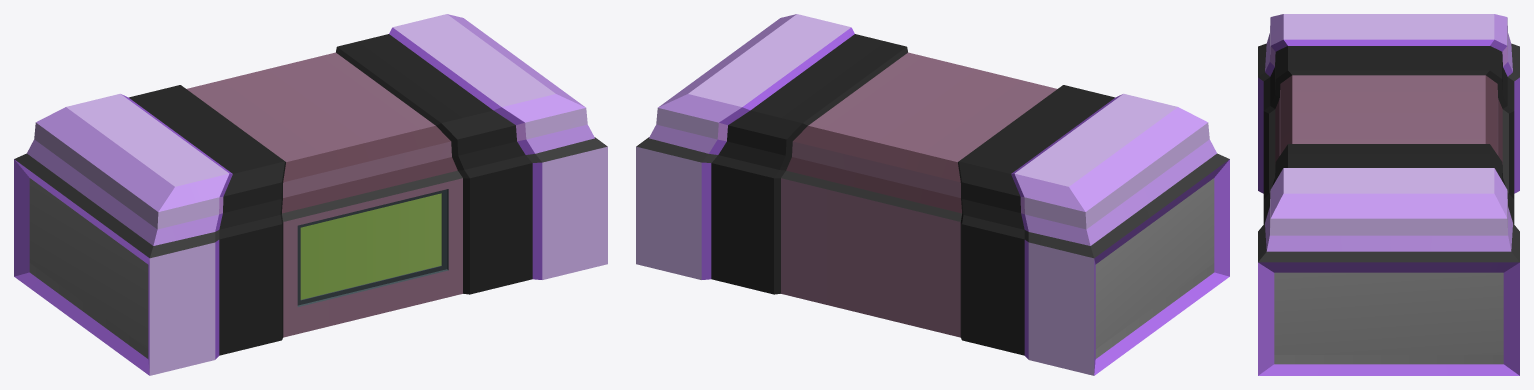
Rendered from Future Small Crate Pink.fbx.
The picture shows the model from 3 angles, left to right: view 1: azimuth 30°, elevation 25°; view 2: azimuth 150°, elevation 25°; view 3: azimuth 270°, elevation 25°; orthographic projection. The views are drawn at different scales.
Visible parts, largest first — view 1: Future Small Crate Pink; view 2: Future Small Crate Pink; view 3: Future Small Crate Pink.
Boxes of the visible parts, bbox=[...] form: Future Small Crate Pink: bbox=[14, 14, 607, 375]; Future Small Crate Pink: bbox=[636, 14, 1229, 375]; Future Small Crate Pink: bbox=[1258, 14, 1519, 375].
Size of the model in its own units: 164 by 237 by 463.
1 material, 1 textured.
